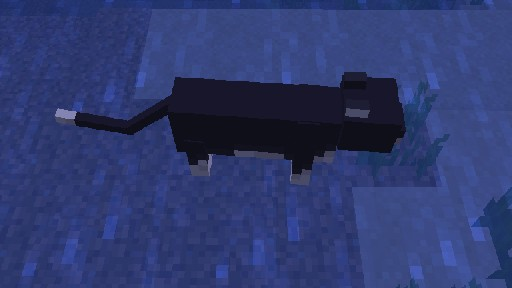cat: (53, 71, 405, 185)
